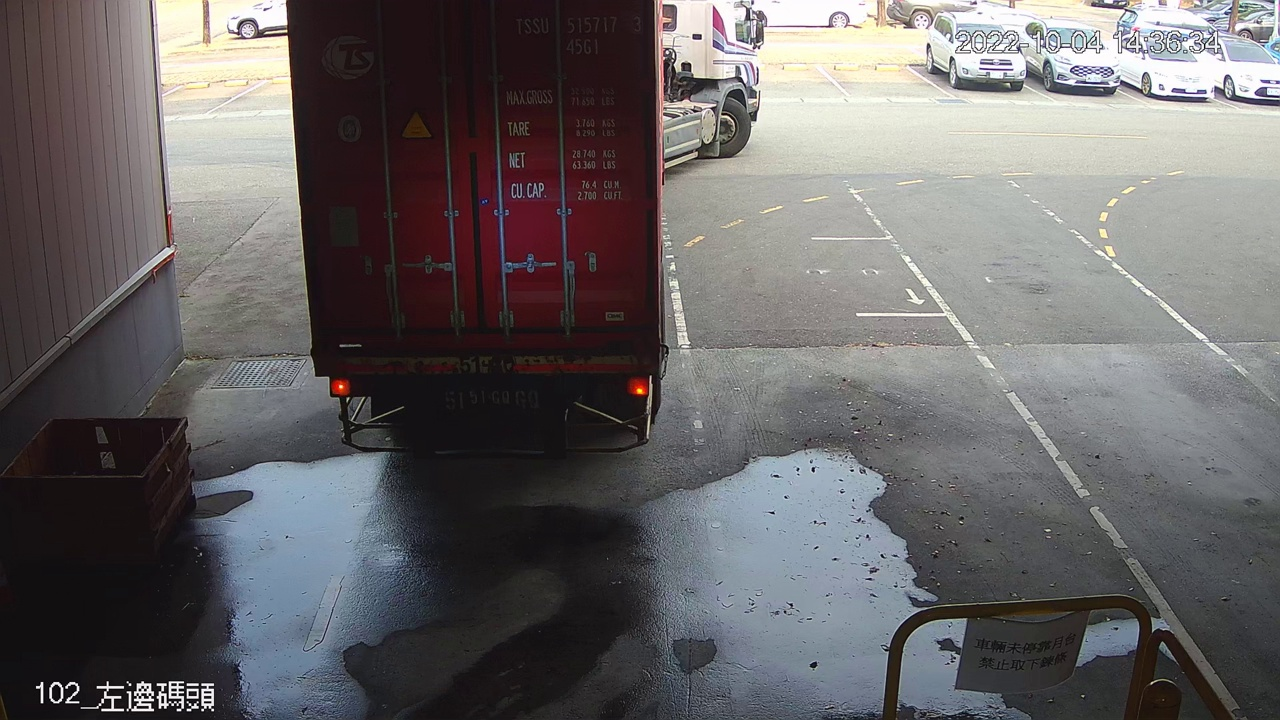container: (510, 7, 648, 60)
